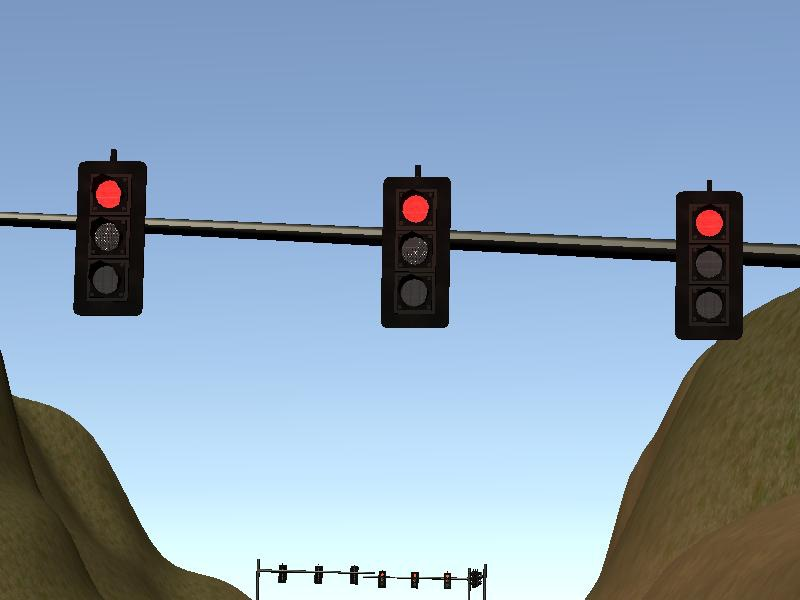red_light: (677, 192, 744, 339), (385, 181, 449, 326), (80, 163, 140, 312)
